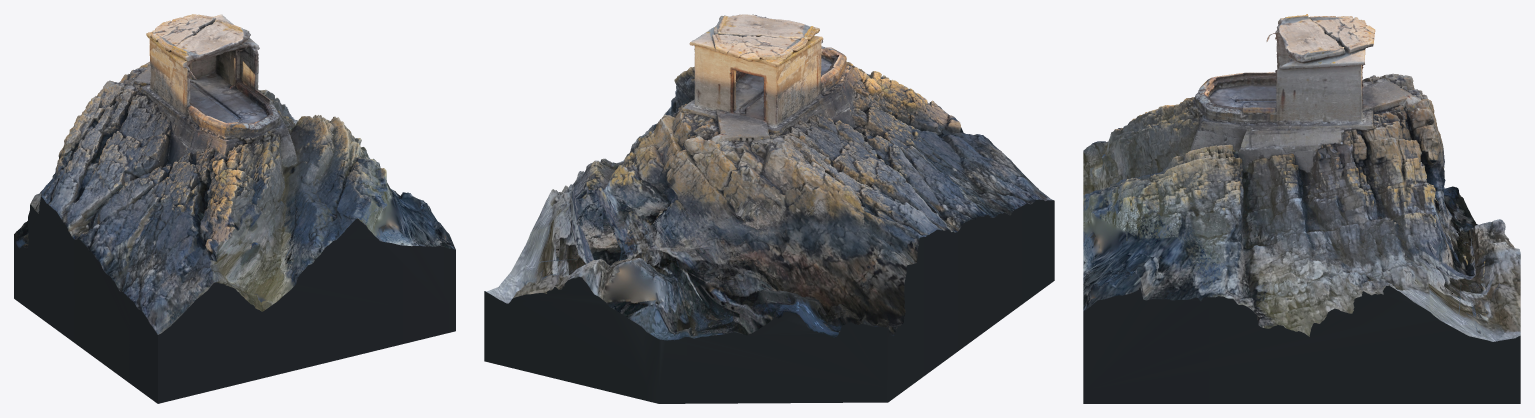
Rendered from searchlight_place.glb.
The picture shows the model from 3 angles, left to right: view 1: azimuth 30°, elevation 25°; view 2: azimuth 150°, elevation 25°; view 3: azimuth 270°, elevation 25°; orthographic projection. The views are drawn at different scales.
Parts seen in each view (by area): view 1: Object_3, Object_4, Object_5, Object_6, Object_7; view 2: Object_3, Object_6, Object_4, Object_5, Object_7; view 3: Object_3, Object_6, Object_5, Object_4, Object_7.
Part boxes in pixels (x1,y1,x2,y2): Object_3: [14, 14, 455, 403]; Object_4: [75, 65, 325, 322]; Object_5: [15, 80, 446, 282]; Object_6: [66, 58, 295, 146]; Object_7: [64, 63, 169, 181]; Object_3: [484, 14, 1054, 403]; Object_6: [531, 72, 856, 337]; Object_4: [720, 46, 1043, 224]; Object_5: [627, 49, 998, 335]; Object_7: [702, 105, 882, 232]; Object_3: [1083, 14, 1520, 403]; Object_6: [1251, 90, 1520, 322]; Object_5: [1083, 82, 1509, 309]; Object_4: [1083, 65, 1414, 239]; Object_7: [1265, 72, 1437, 128].
Bounding box in the file's own units: 32.6 × 26.9 × 36.86.
1 material, 1 textured.
